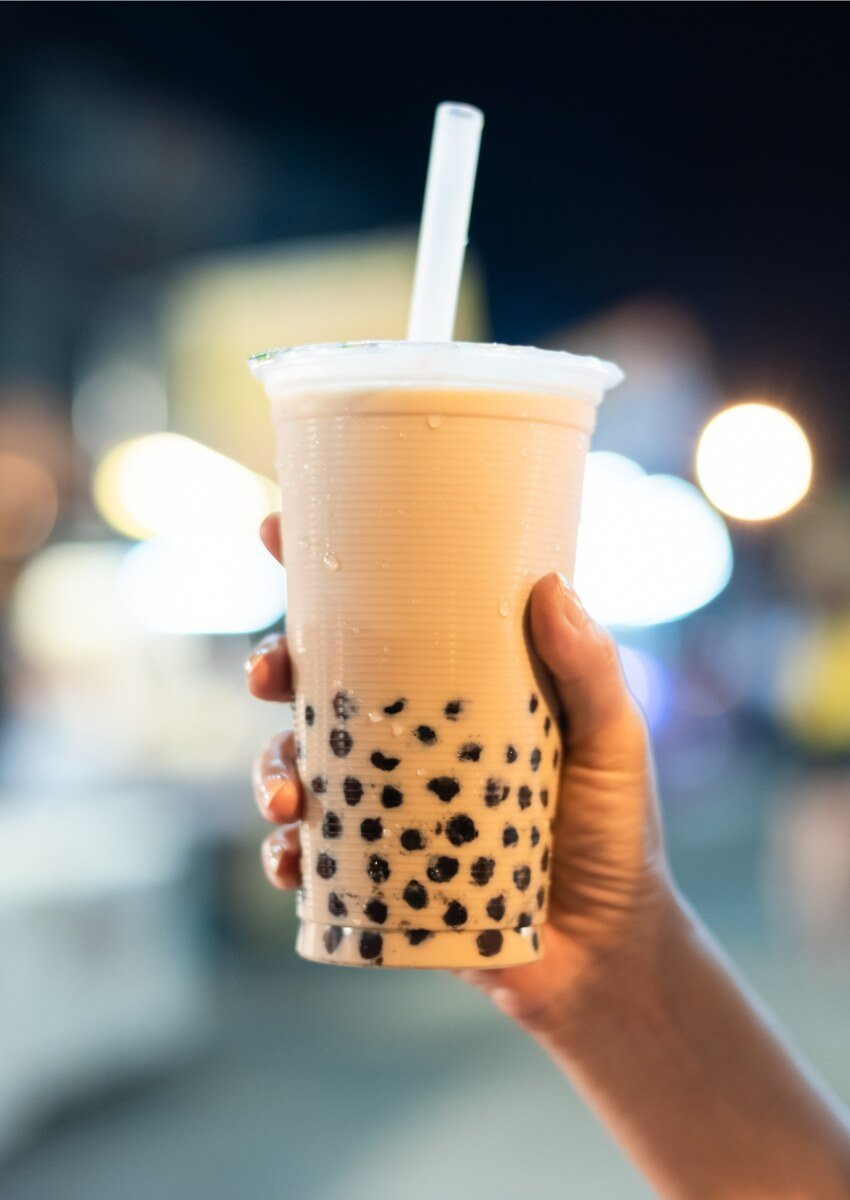boba: (446, 814, 475, 844), (426, 776, 459, 802), (402, 881, 430, 910), (357, 929, 384, 959), (477, 927, 504, 957), (428, 856, 458, 882), (484, 776, 509, 806), (328, 729, 354, 756), (441, 901, 469, 926), (470, 859, 495, 885), (399, 828, 427, 851), (366, 854, 389, 882), (321, 925, 342, 955), (332, 693, 356, 719), (363, 899, 388, 923), (371, 751, 400, 771), (343, 776, 363, 805), (321, 812, 342, 839), (406, 925, 433, 946), (362, 815, 382, 842), (380, 785, 403, 808), (316, 853, 336, 879), (486, 896, 507, 920), (459, 743, 481, 763), (514, 866, 531, 890), (327, 895, 346, 916), (417, 725, 436, 743), (502, 827, 519, 846), (386, 698, 404, 715), (310, 775, 328, 791), (530, 748, 543, 770), (447, 699, 462, 718), (520, 786, 531, 809), (518, 913, 532, 929), (535, 887, 546, 907), (305, 703, 315, 724), (505, 747, 517, 763), (531, 932, 540, 953), (541, 849, 549, 870), (541, 788, 549, 805), (529, 696, 538, 711), (532, 826, 539, 845), (553, 750, 560, 768), (545, 718, 551, 734)
